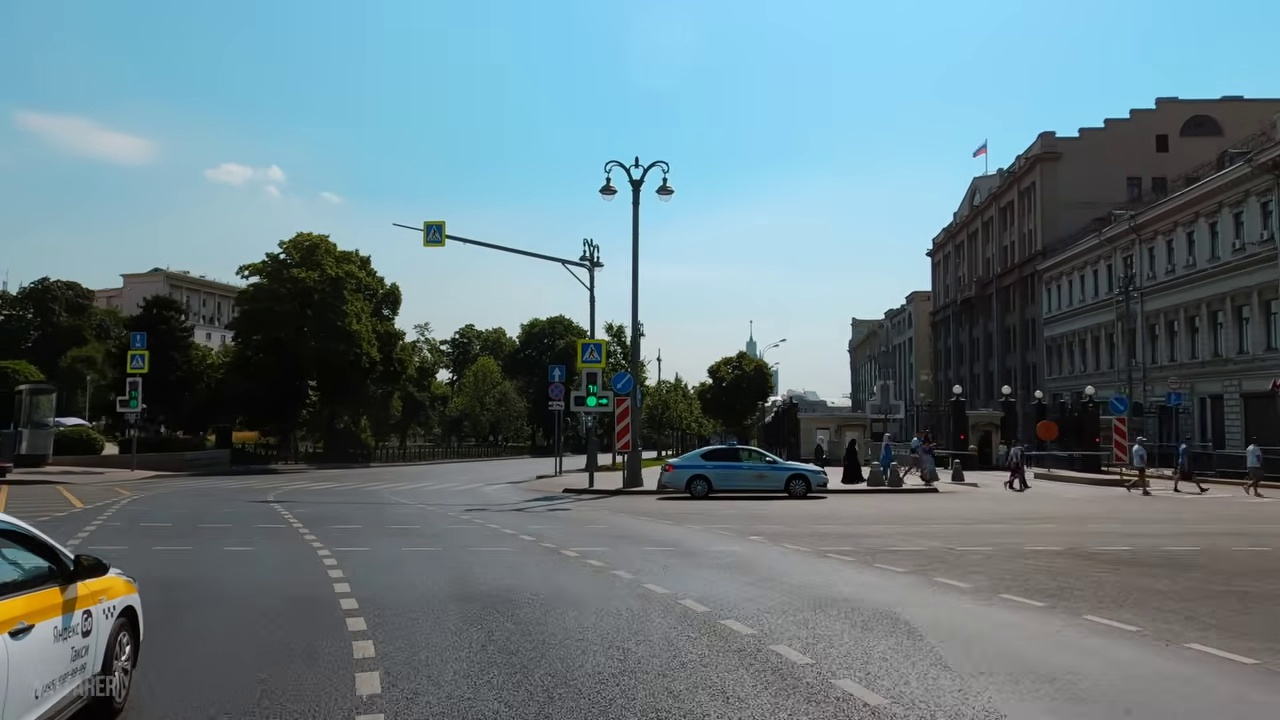apagada: (593, 155, 676, 208), (593, 159, 647, 205)
